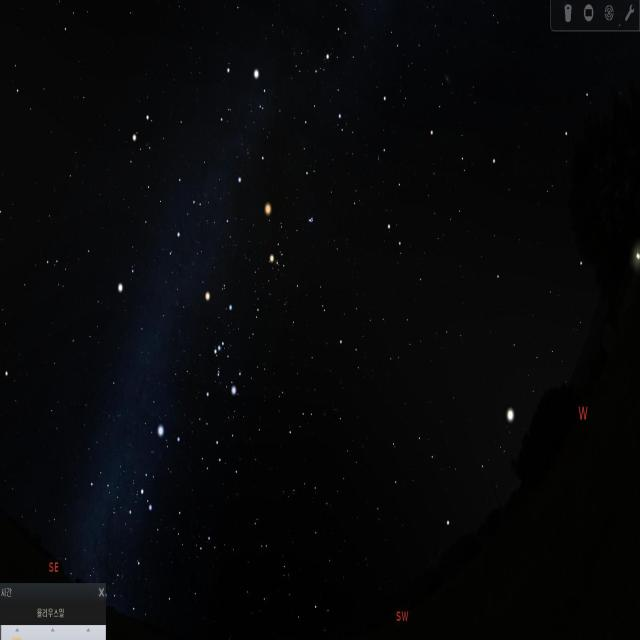canis_major: (132, 418, 185, 513)
canis_minor: (115, 261, 141, 305)
gemini: (127, 103, 215, 253)
orion: (194, 282, 246, 410)
pleiades: (306, 210, 318, 234)
taurus: (253, 190, 314, 282)
